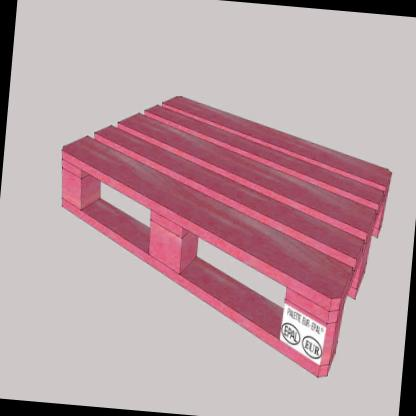BoxFace: (61, 94, 393, 380)
